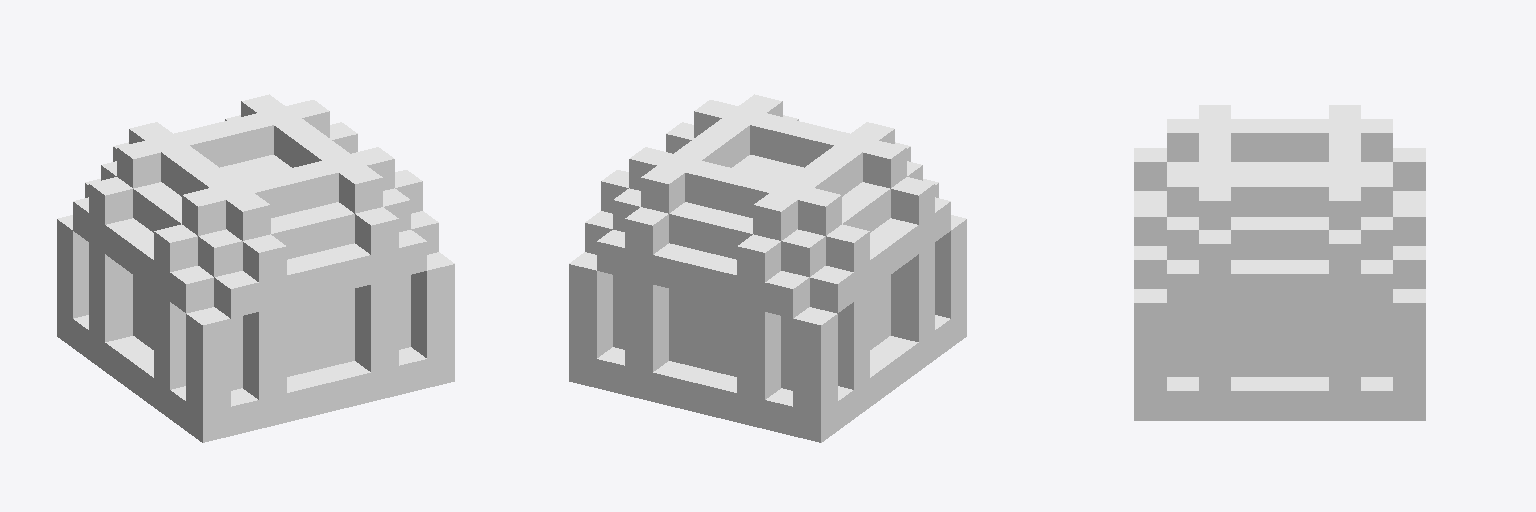
File: Alarm.obj
3 renders of one model, left to right at view 1: azimuth 30°, elevation 25°; view 2: azimuth 150°, elevation 25°; view 3: azimuth 270°, elevation 25°, orthographic.
Visible parts, largest first — view 1: object 1; view 2: object 1; view 3: object 1.
Boxes of the visible parts, <box> form: object 1: <box>57,94,454,442</box>; object 1: <box>569,94,966,442</box>; object 1: <box>1134,105,1425,420</box>.
Bounding box in the file's own units: 0.9 × 0.7 × 0.9.